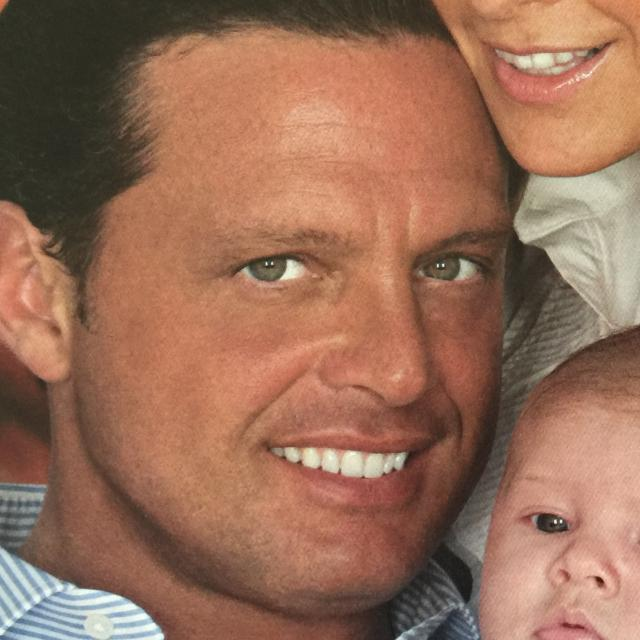Normal: (76, 43, 508, 620)
